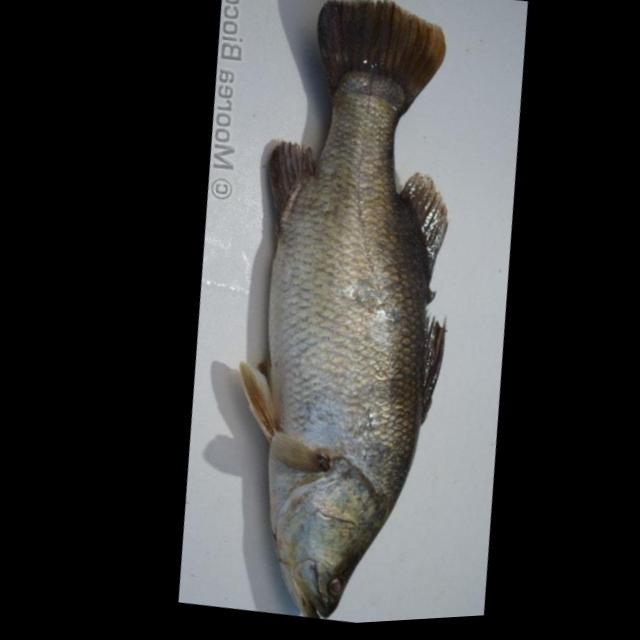Seabass: (161, 0, 536, 630)
